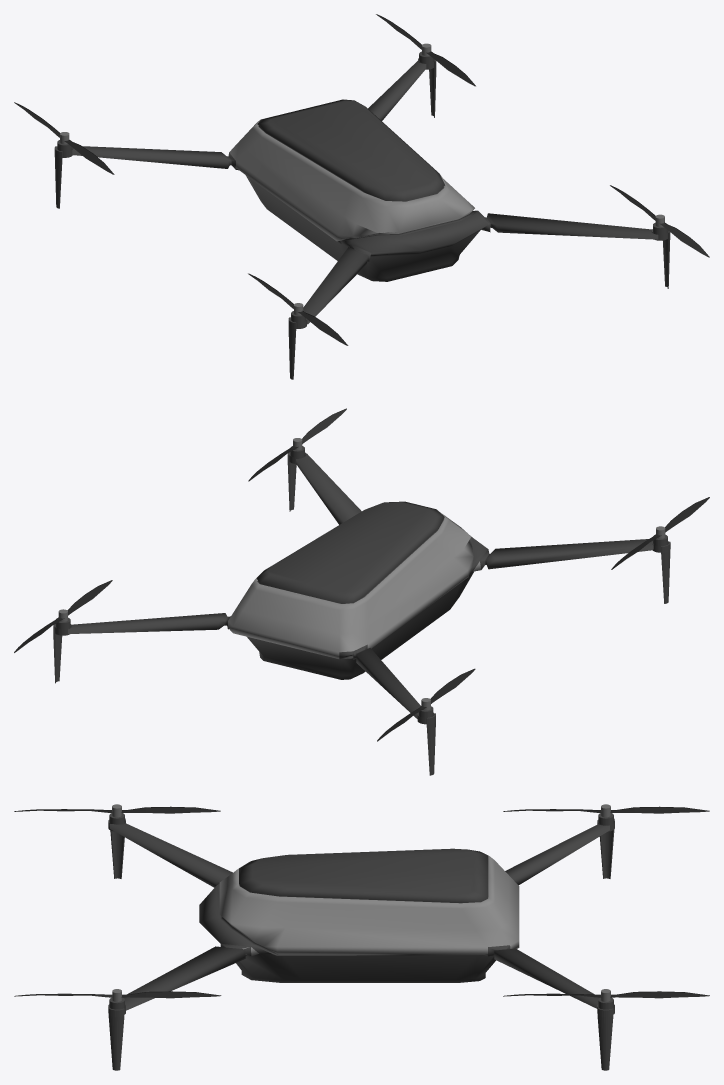
Rendered from drone.glb.
3 views of the same model, one above another, from view 1: azimuth 30°, elevation 25°; view 2: azimuth 150°, elevation 25°; view 3: azimuth 270°, elevation 25° (orthographic). The views are drawn at different scales.
Visible parts, largest first — view 1: Cube, Leg, Leg.001; view 2: Cube, Leg, Leg.001, Leg.002; view 3: Cube, Leg.003, Leg.002, Leg, Leg.001, Cube.009, Cube.005, Cube.003, Cube.001.
Part boxes in pixels (box(x1,y1,x2,y2)): Cube: box(72, 61, 658, 324); Leg: box(54, 140, 73, 208); Leg.001: box(288, 311, 306, 379); Cube: box(68, 453, 653, 718); Leg: box(417, 706, 435, 775); Leg.001: box(652, 534, 670, 603); Leg.002: box(53, 617, 71, 683); Cube: box(109, 823, 609, 1010); Leg.003: box(108, 997, 125, 1070); Leg.002: box(597, 997, 614, 1070); Leg: box(597, 813, 614, 878); Leg.001: box(108, 813, 125, 878); Cube.009: box(121, 991, 221, 998); Cube.005: box(610, 991, 709, 998); Cube.003: box(121, 806, 220, 813); Cube.001: box(610, 806, 709, 813).
Size of the model in its own units: 2.94 by 0.7281 by 4.47.
Materials: 1 (1 with a texture image).
